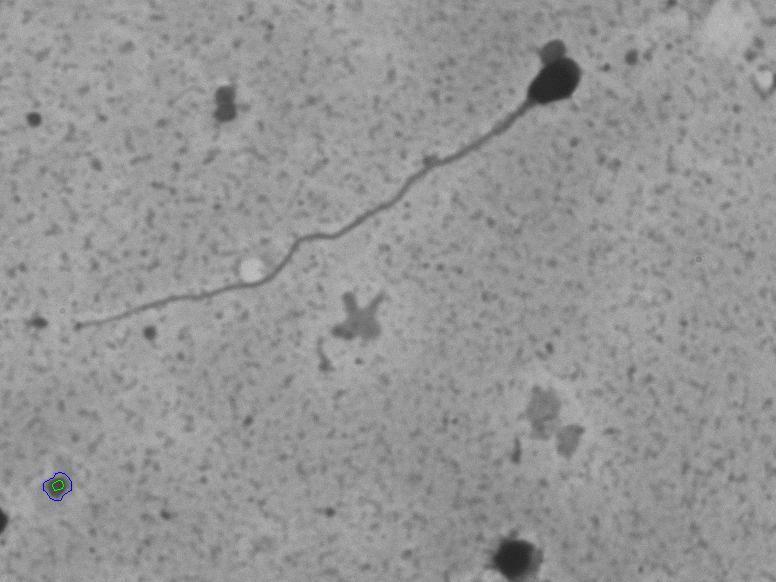Normal: (67, 50, 592, 343)
